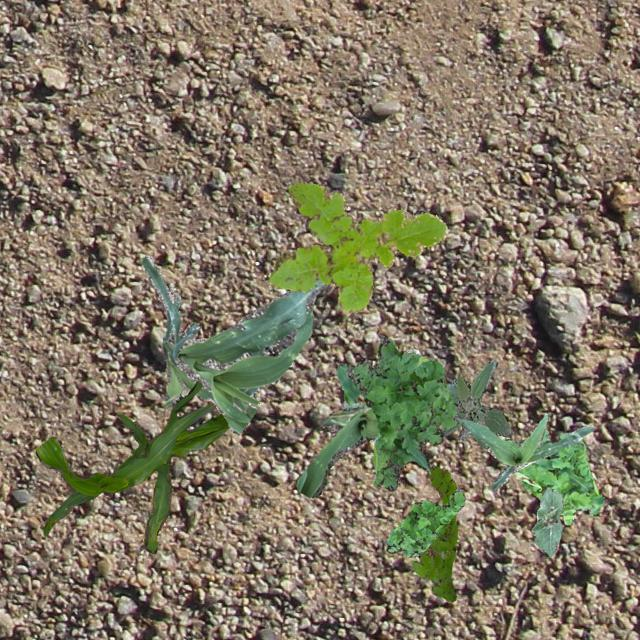crop: (34, 380, 228, 552), (140, 254, 326, 433), (295, 346, 419, 496), (454, 412, 594, 490), (530, 486, 562, 556)
weed: (266, 180, 446, 312), (336, 336, 458, 490), (504, 428, 604, 524), (409, 464, 456, 600), (439, 358, 512, 439), (386, 488, 464, 556), (340, 400, 366, 408)
